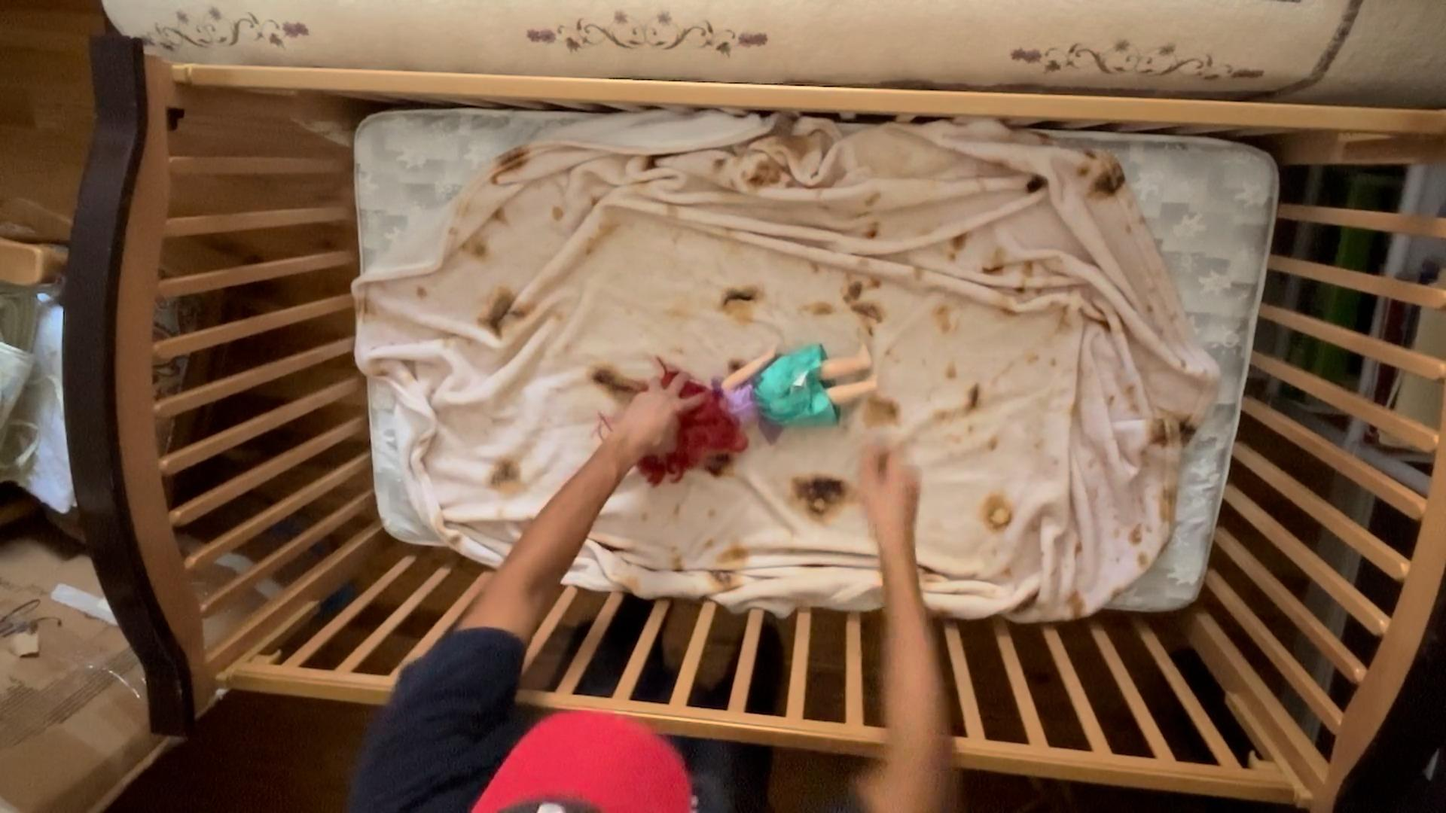baby: (626, 339, 881, 485)
